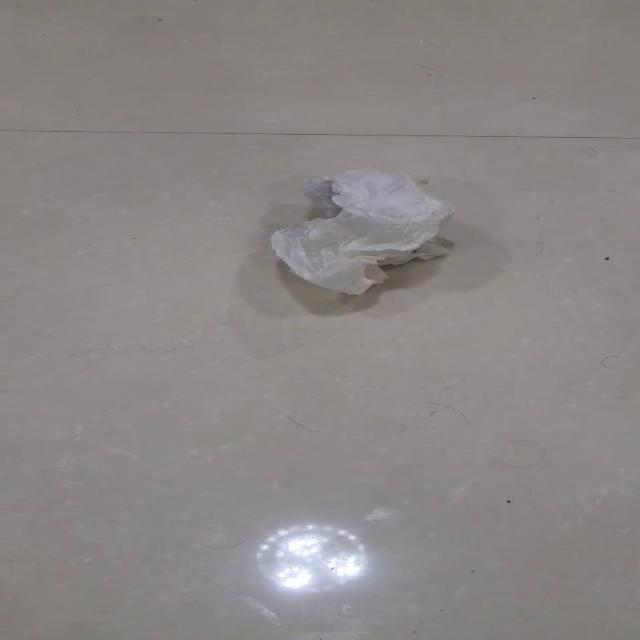plastic: (268, 167, 454, 295)
